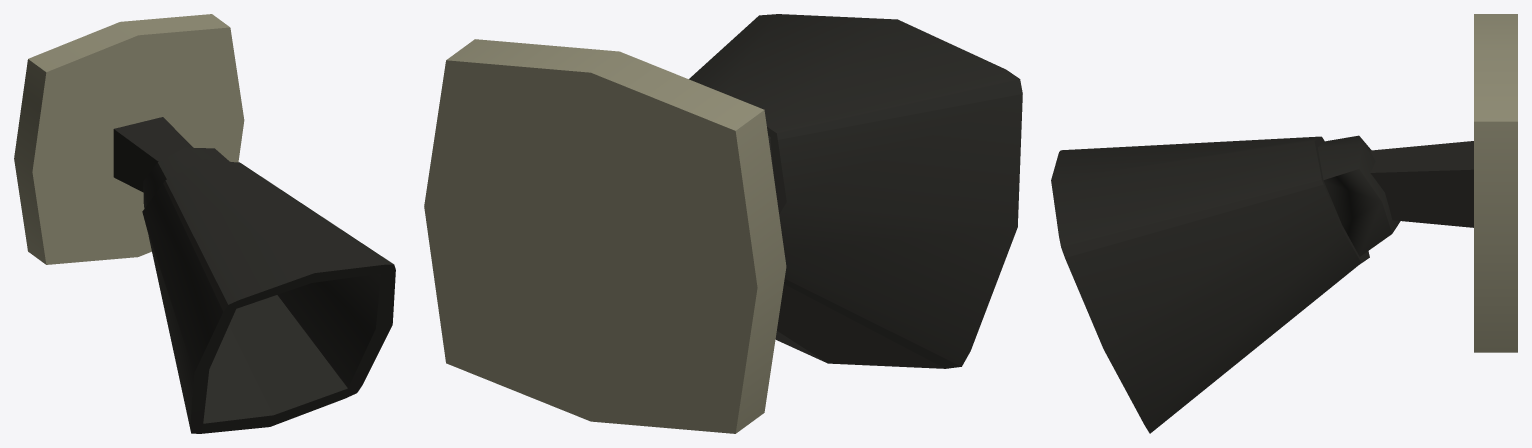
The model's file is WallLampBasic.glb.
3 views of the same model, side by side, from view 1: azimuth 30°, elevation 25°; view 2: azimuth 150°, elevation 25°; view 3: azimuth 270°, elevation 25° (orthographic). The views are drawn at different scales.
Visible parts, largest first — view 1: pCube64, pCube62, pCube63, pCube65; view 2: pCube62, pCube64; view 3: pCube64, pCube62, pCube63, pCube65.
Boxes of the visible parts, box(x1,y1,x2,y2) form: pCube64: box(142, 159, 395, 433); pCube62: box(14, 14, 244, 264); pCube63: box(113, 117, 192, 192); pCube65: box(143, 147, 229, 208); pCube62: box(424, 39, 786, 433); pCube64: box(689, 14, 1022, 368); pCube64: box(1051, 136, 1369, 433); pCube62: box(1474, 14, 1517, 352); pCube63: box(1370, 141, 1473, 227); pCube65: box(1318, 135, 1400, 256).
Bounding box in the file's own units: 6.66 × 8.86 × 10.6.
